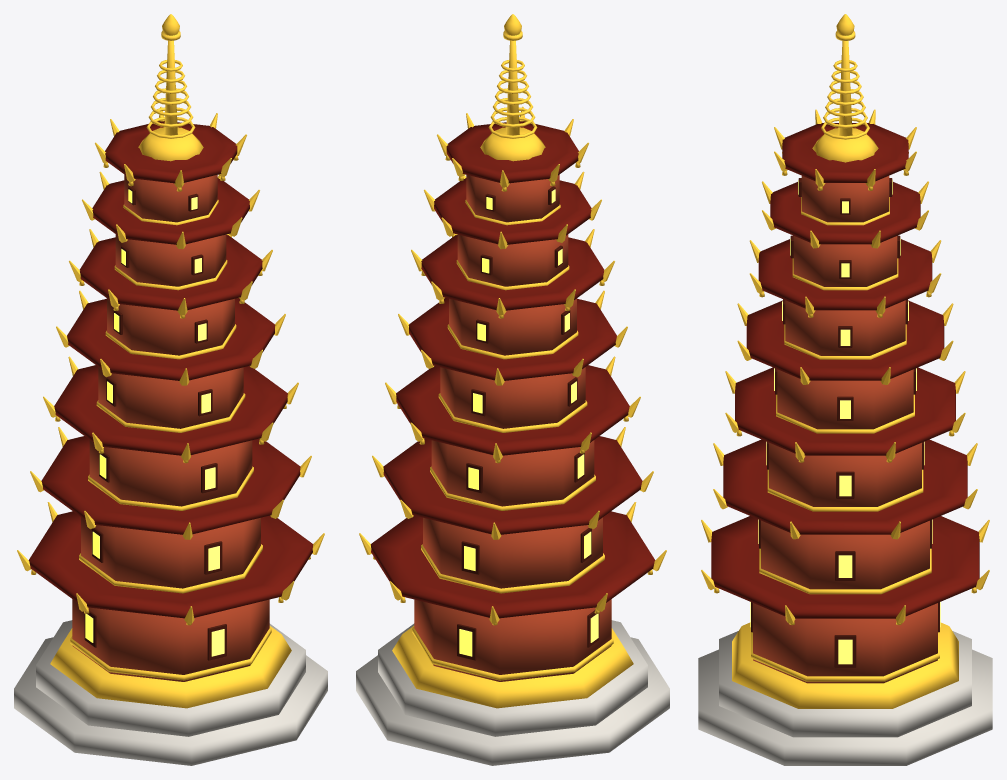
Rendered from bao_thap_7_tang.glb.
The picture shows the model from 3 angles, left to right: view 1: azimuth 30°, elevation 25°; view 2: azimuth 150°, elevation 25°; view 3: azimuth 270°, elevation 25°; orthographic projection.
Visible parts, largest first — view 1: bao_thap_7_tang; view 2: bao_thap_7_tang; view 3: bao_thap_7_tang.
Part boxes in pixels (x1,y1,x2,y2): bao_thap_7_tang: (14,14,327,765); bao_thap_7_tang: (356,14,669,765); bao_thap_7_tang: (698,14,992,765).
Bounding box in the file's own units: 5.64 × 14.57 × 5.64.
